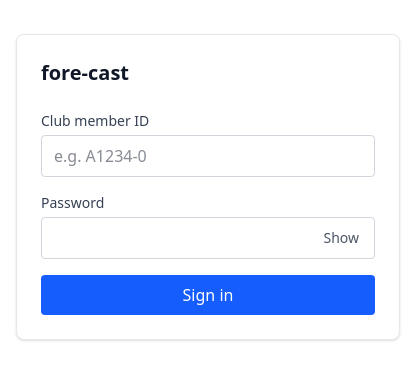
Scenario: LoginPage › shows server error message when login fails
Step 1. Type "A1" into the field labelled "Club member ID" → [208, 156], box [41,135,375,177]
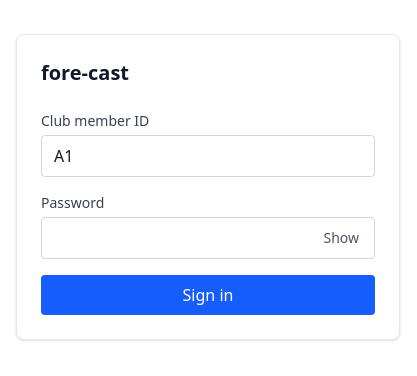
Step 2. Type "secret" into the password field labelled "Password" → [208, 238], box [41,217,375,259]
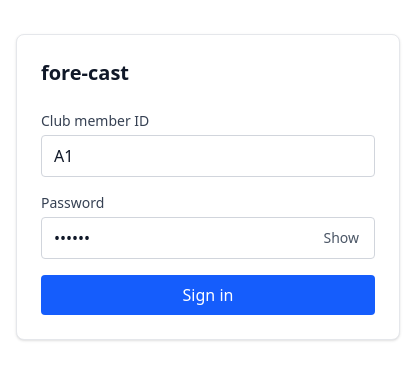
Step 3. Click the button "Sign in" → [208, 295], box [41,275,375,315]
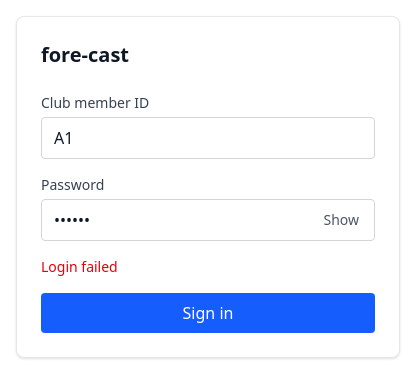
Check: the message reads "Login failed", box [41,257,118,276]
